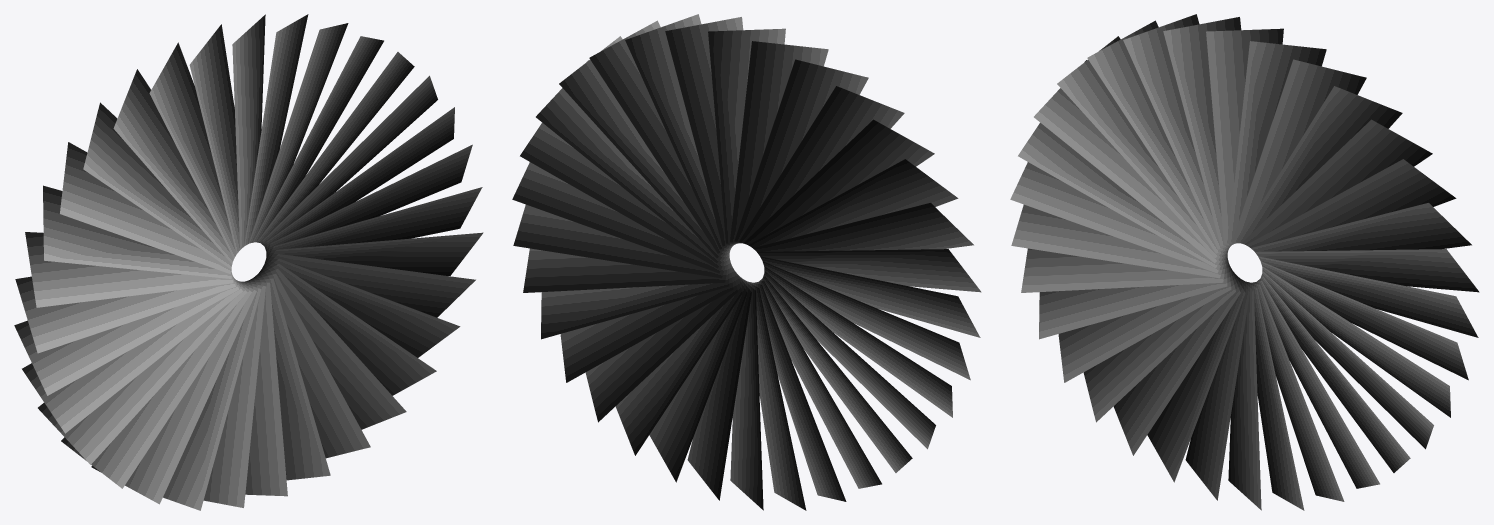
File: hericles3.obj
The picture shows the model from 3 angles, left to right: view 1: azimuth 30°, elevation 25°; view 2: azimuth 150°, elevation 25°; view 3: azimuth 330°, elevation 25°; orthographic projection.
Parts seen in each view (by area): view 1: Thruster_Blades_Thruster_Blades_vertex_colors.001; view 2: Thruster_Blades_Thruster_Blades_vertex_colors.001; view 3: Thruster_Blades_Thruster_Blades_vertex_colors.001.
Part boxes in pixels (left/top/right/bottom): Thruster_Blades_Thruster_Blades_vertex_colors.001: left=14, top=14, right=483, bottom=510; Thruster_Blades_Thruster_Blades_vertex_colors.001: left=512, top=14, right=981, bottom=510; Thruster_Blades_Thruster_Blades_vertex_colors.001: left=1010, top=14, right=1479, bottom=510.
Bounding box in the file's own units: 1.51 × 1.51 × 0.1313.
